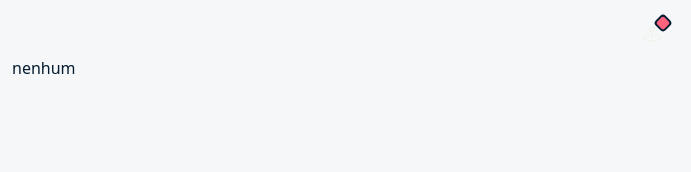
o bloco de check-in na barra lateral › recolhida: o ícone diz tudo no aria-label, a bolinha tem a cor do estado e o clique SEMPRE abre o diálogo (mesmo no barrado sem localização)
The image size is (691, 172).
Later steps or results of the test are not shown.
Step 1. Click the button named "Check-in: Barra Funda · 09:00, Barrado: sem localização. Abrir o check-in." → [652, 34], box x1=630 y1=12 x2=674 y2=56
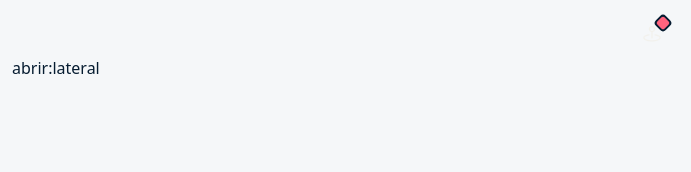
Check: the text with test id "pedido" reads "abrir:lateral", box x1=12 y1=57 x2=100 y2=79
